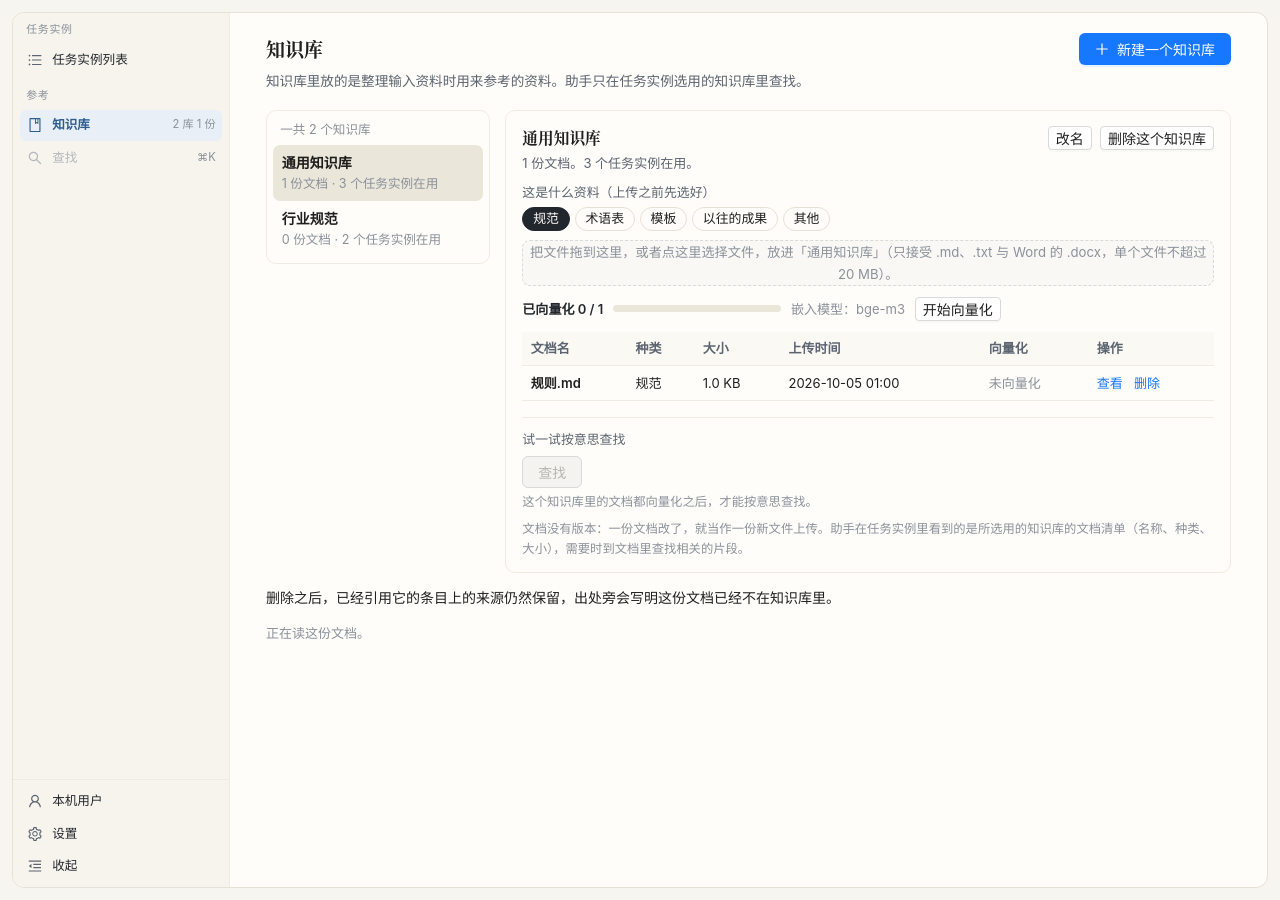
Test: 知识库页面 › 开始向量化没有做成：给出后端的那句话
Click the button with test id "kb-embed-start".
click(958, 309)  # box [915, 297, 1001, 321]
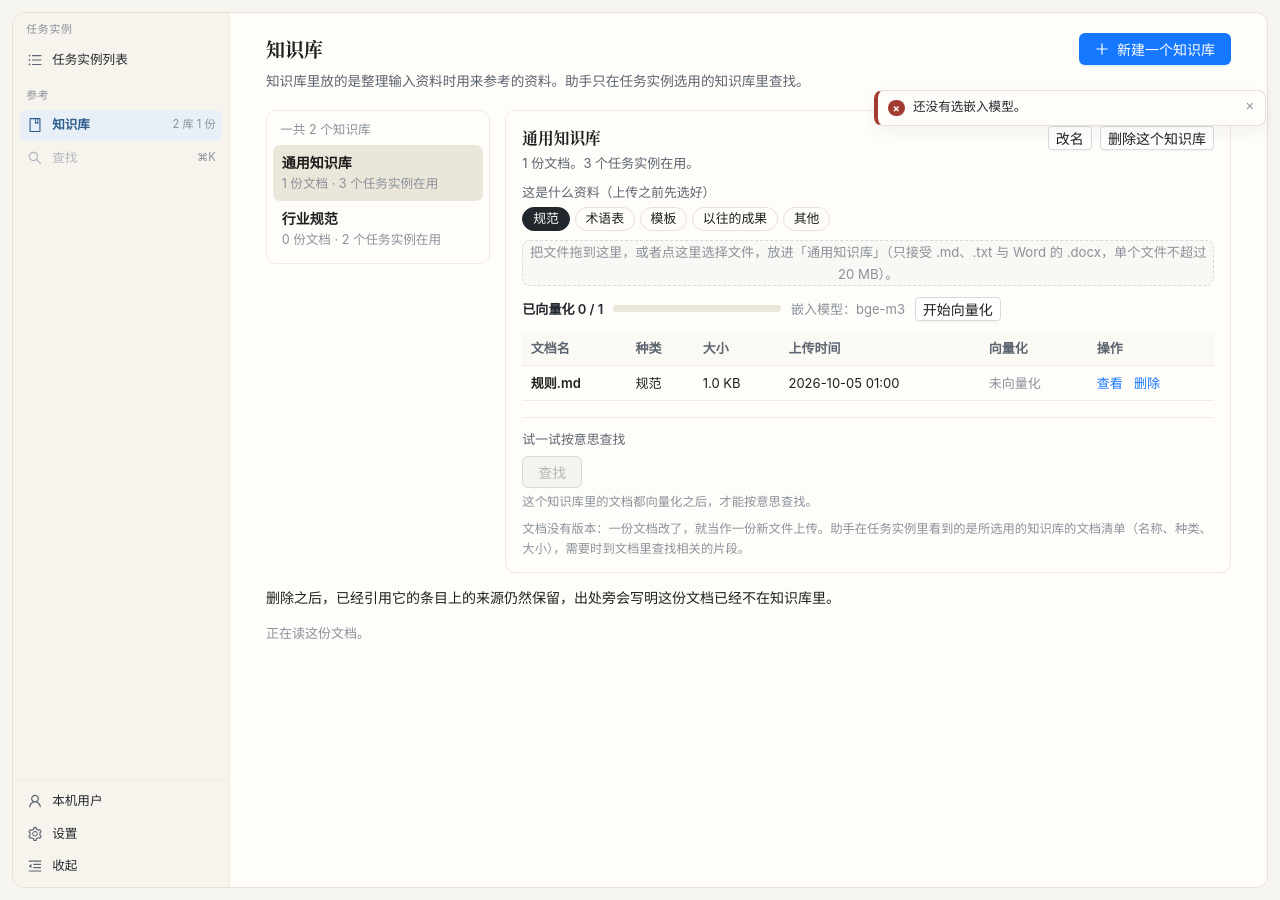
Now the text "还没有选嵌入模型。" is shown, box [913, 99, 1026, 114]
